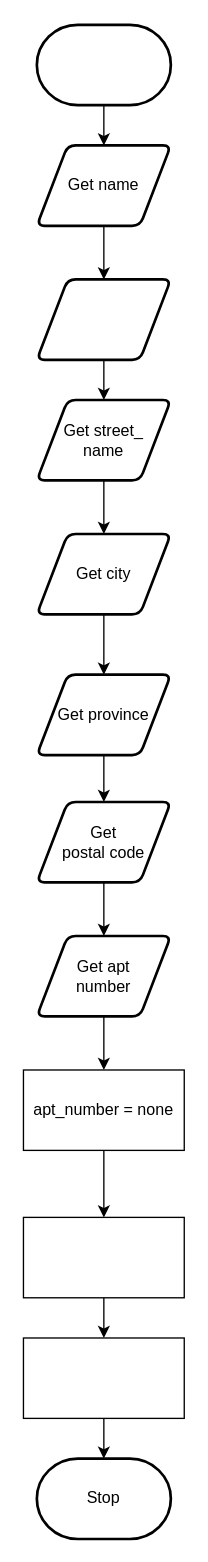
This 208x1562 diagram has some shape labels left out. The centre of each missing label's shape, as x and y in pixels:
full address = (full address in correct format: the point at 103,1257
Get street_number: the point at 103,318
Show full address: the point at 103,1377
Start: the point at 103,64
